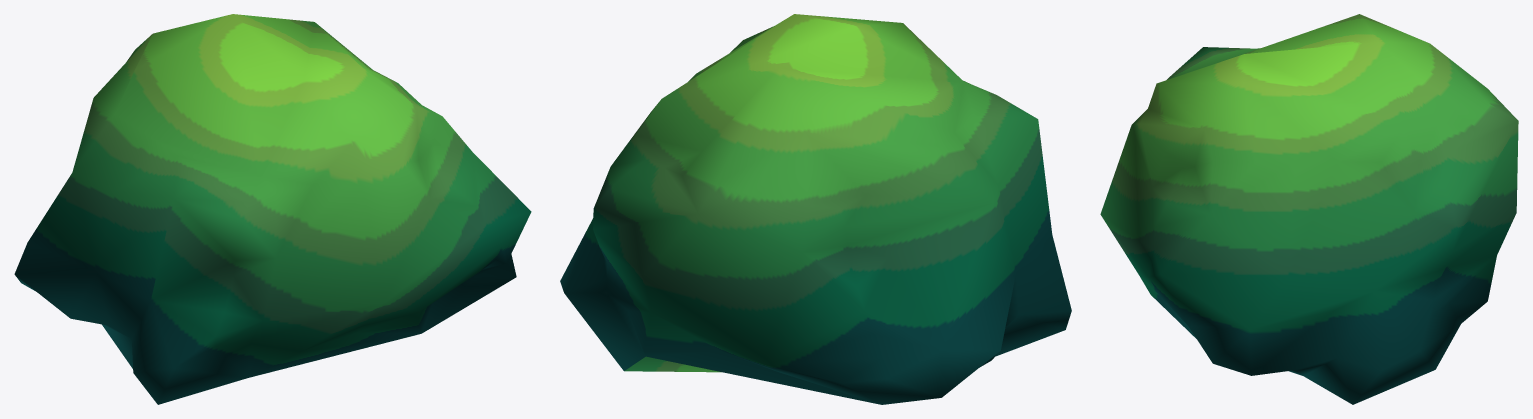
The model's file is Bush1.FBX.
The picture shows the model from 3 angles, left to right: view 1: azimuth 30°, elevation 25°; view 2: azimuth 150°, elevation 25°; view 3: azimuth 270°, elevation 25°; orthographic projection. The views are drawn at different scales.
Parts seen in each view (by area): view 1: Bush1; view 2: Bush1; view 3: Bush1.
Boxes of the visible parts, bbox=[...] form: Bush1: bbox=[14, 14, 531, 404]; Bush1: bbox=[560, 14, 1071, 404]; Bush1: bbox=[1100, 14, 1518, 404].
Bounding box in the file's own units: 177 × 118 × 160.
